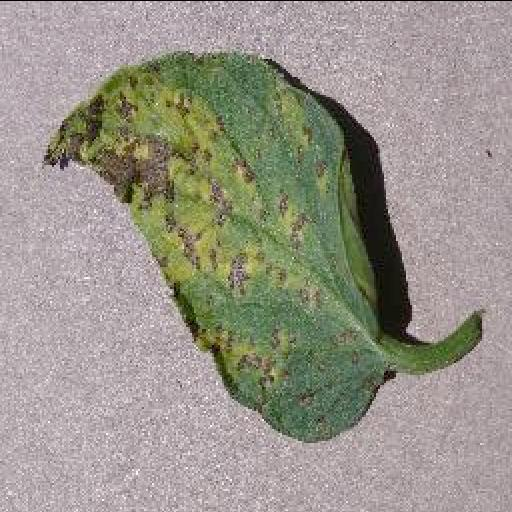disease_tomato: (44, 50, 398, 440)
